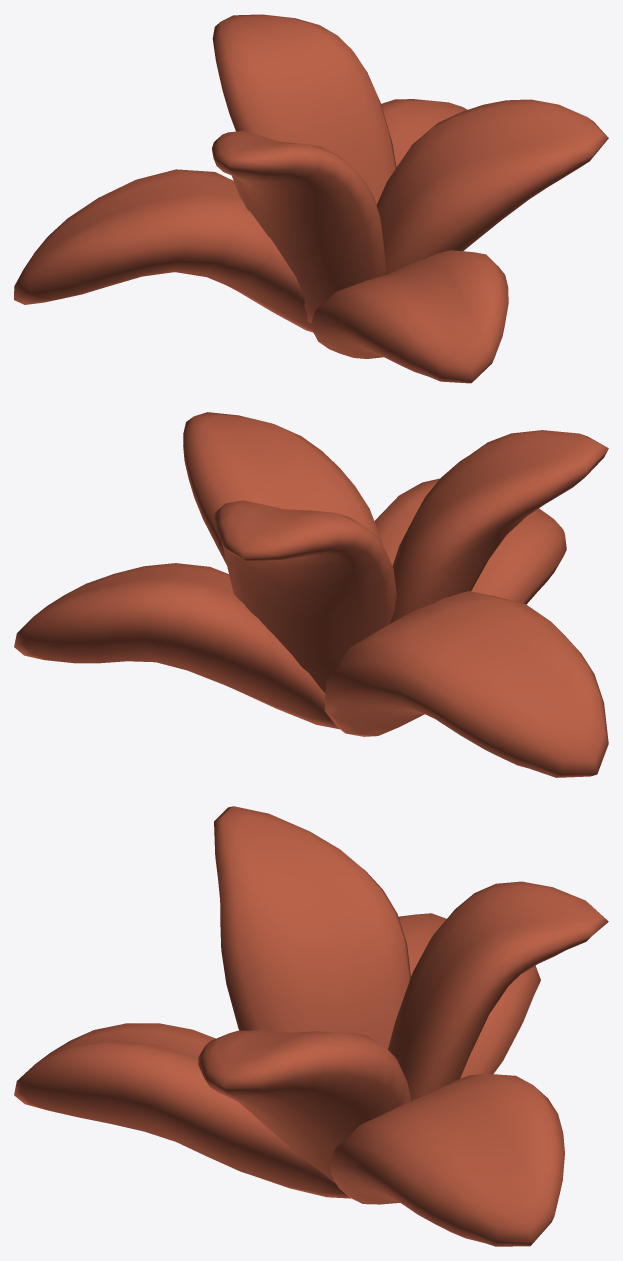
Rendered from Plant_C_01.fbx.
3 renders of one model, top to bottom at view 1: azimuth 30°, elevation 25°; view 2: azimuth 150°, elevation 25°; view 3: azimuth 270°, elevation 25°, orthographic. The views are drawn at different scales.
Visible parts, largest first — view 1: Plant_C_01_LOD0; view 2: Plant_C_01_LOD0; view 3: Plant_C_01_LOD0.
Boxes of the visible parts, x1,y1,x2,y2 form: Plant_C_01_LOD0: (14,14,608,383); Plant_C_01_LOD0: (14,412,608,777); Plant_C_01_LOD0: (14,806,608,1246).
Size of what is drawn, in the model's own units: 661 by 327 by 587.
